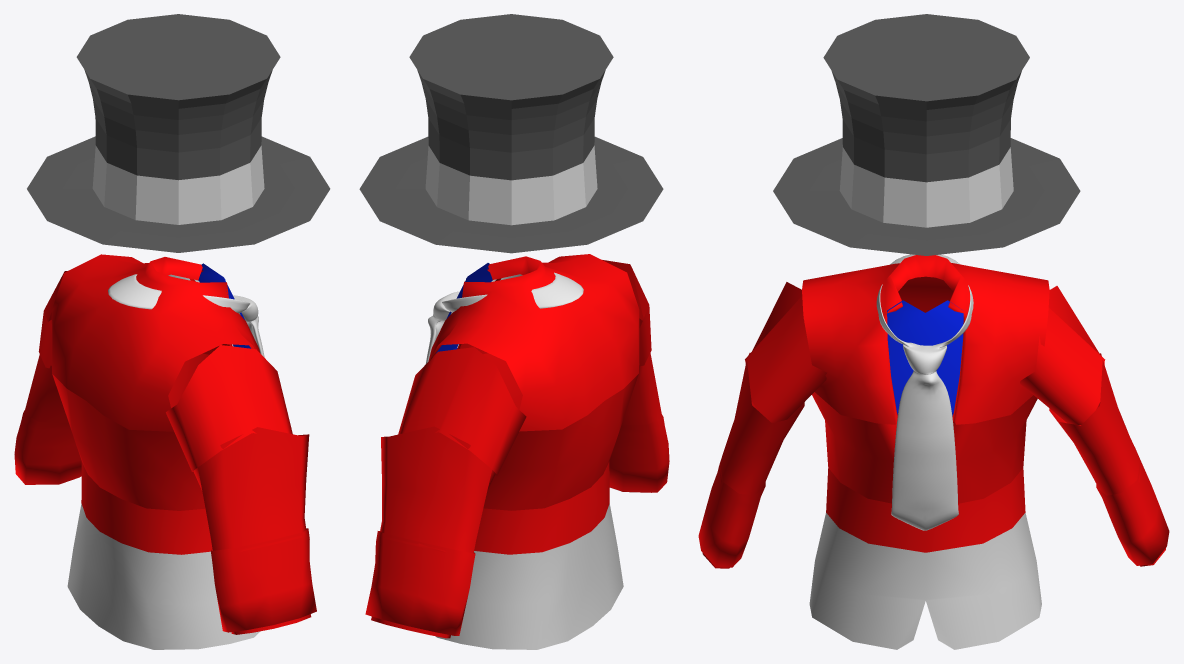
The model's file is OldSuit.fbx.
The picture shows the model from 3 angles, left to right: view 1: azimuth 30°, elevation 25°; view 2: azimuth 150°, elevation 25°; view 3: azimuth 270°, elevation 25°; orthographic projection.
Parts seen in each view (by area): view 1: Tie, Circle, ge.001, ge; view 2: Tie, Circle, ge, ge.001; view 3: Tie, Circle, ge, ge.001.
Boxes of the visible parts, box(x1,y1,x2,y2) form: Tie: box(51, 254, 264, 649); Circle: box(27, 14, 330, 252); ge.001: box(166, 345, 316, 634); ge: box(14, 271, 81, 484); Tie: box(426, 254, 639, 649); Circle: box(359, 14, 663, 253); ge: box(365, 347, 526, 638); ge.001: box(602, 260, 669, 492); Tie: box(802, 254, 1049, 649); Circle: box(773, 14, 1080, 255); ge: box(1020, 286, 1169, 566); ge.001: box(698, 282, 826, 568).
Size of the model in its own units: 153 by 306 by 234.
